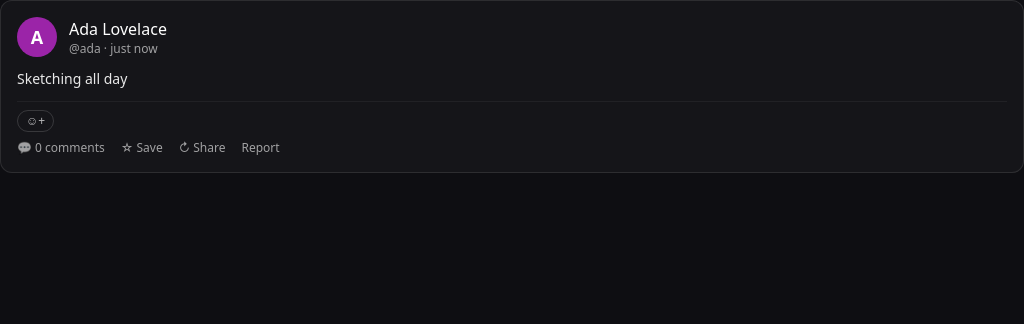
it: sharing a post › shares it with words of your own, and says so
Click the button with aria-label "Share this post to your feed" at {"x": 202, "y": 148}, box [179,140,226,156]
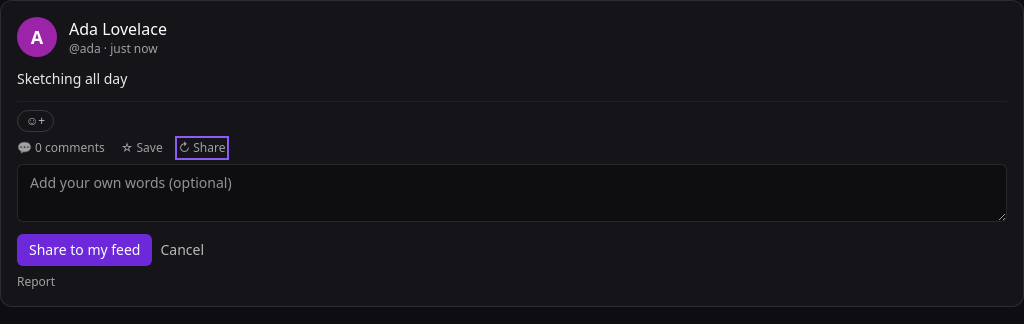
Type "Look at this" into the text box labelled "Add your own words (optional)" at {"x": 512, "y": 193}, box [17,164,1007,222]
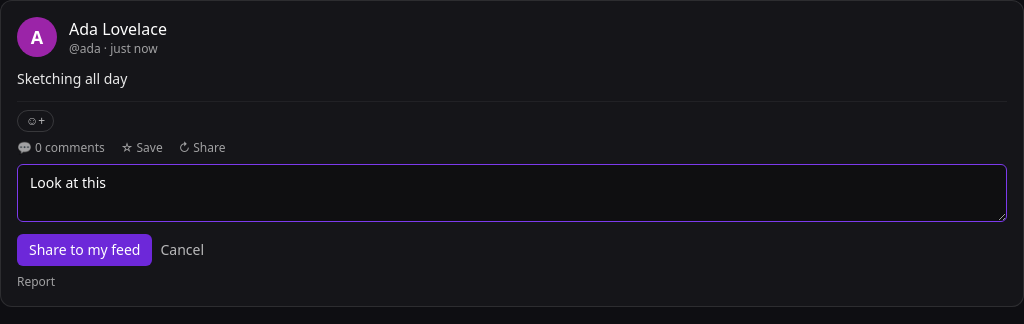
Click the button "Share to my feed" at {"x": 85, "y": 250}, box [17,234,152,266]
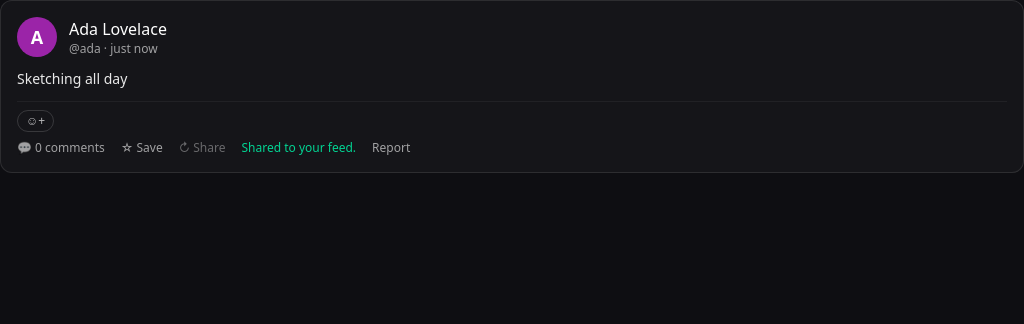
Expected: the message reads "Shared to your feed.", [242,139,356,156]
Expected: the button with aria-label "Share this post to your feed" is disabled, [179,140,226,156]
